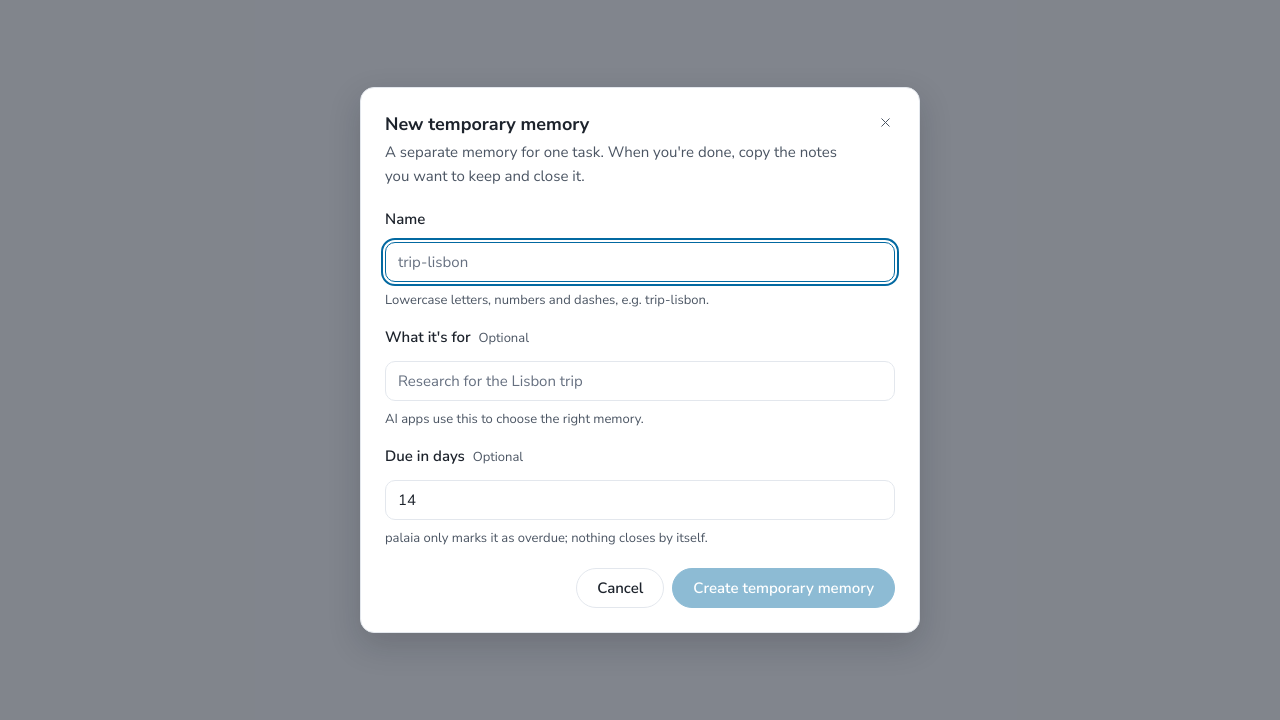
Scenario: NewTemporaryMemory (issue 168) › shows the hub's reason when the name is refused
The width and height of the screenshot is (1280, 720).
Type "trip" into the field labelled "Name" at (640, 262), box left=385, top=242, right=895, bottom=282
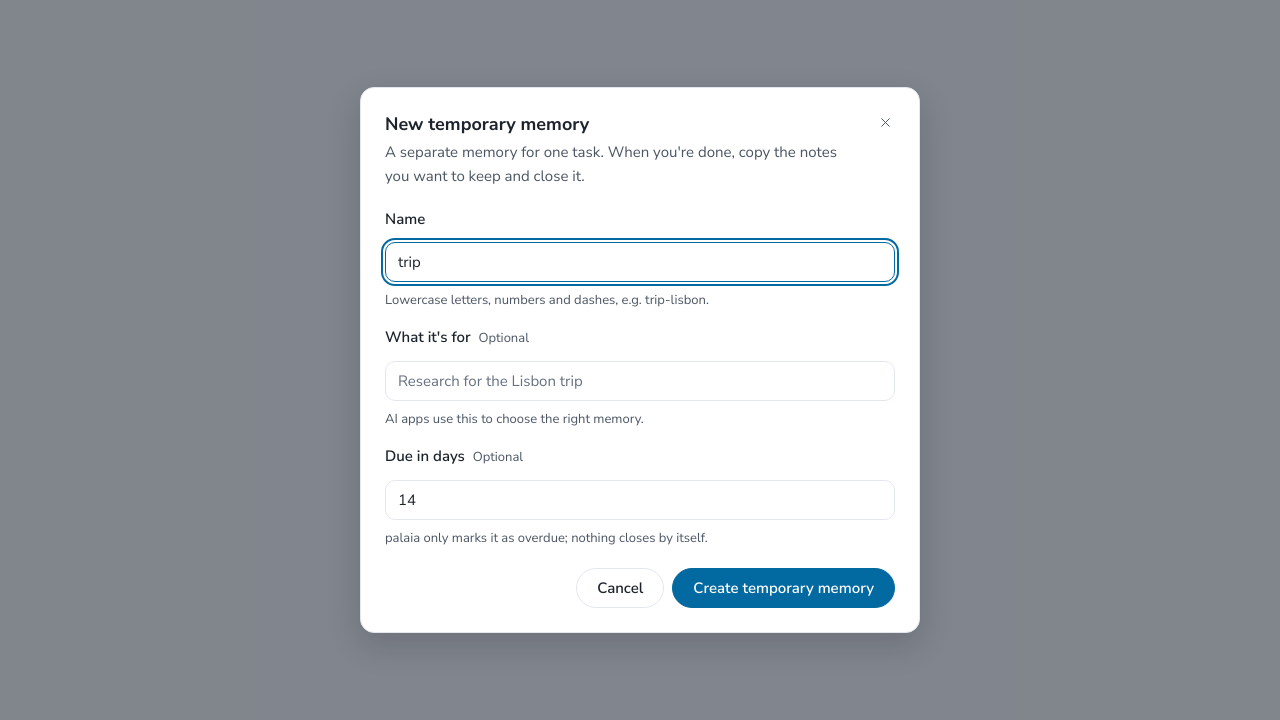
Click the button "Create temporary memory" at (784, 588), box left=672, top=568, right=895, bottom=608
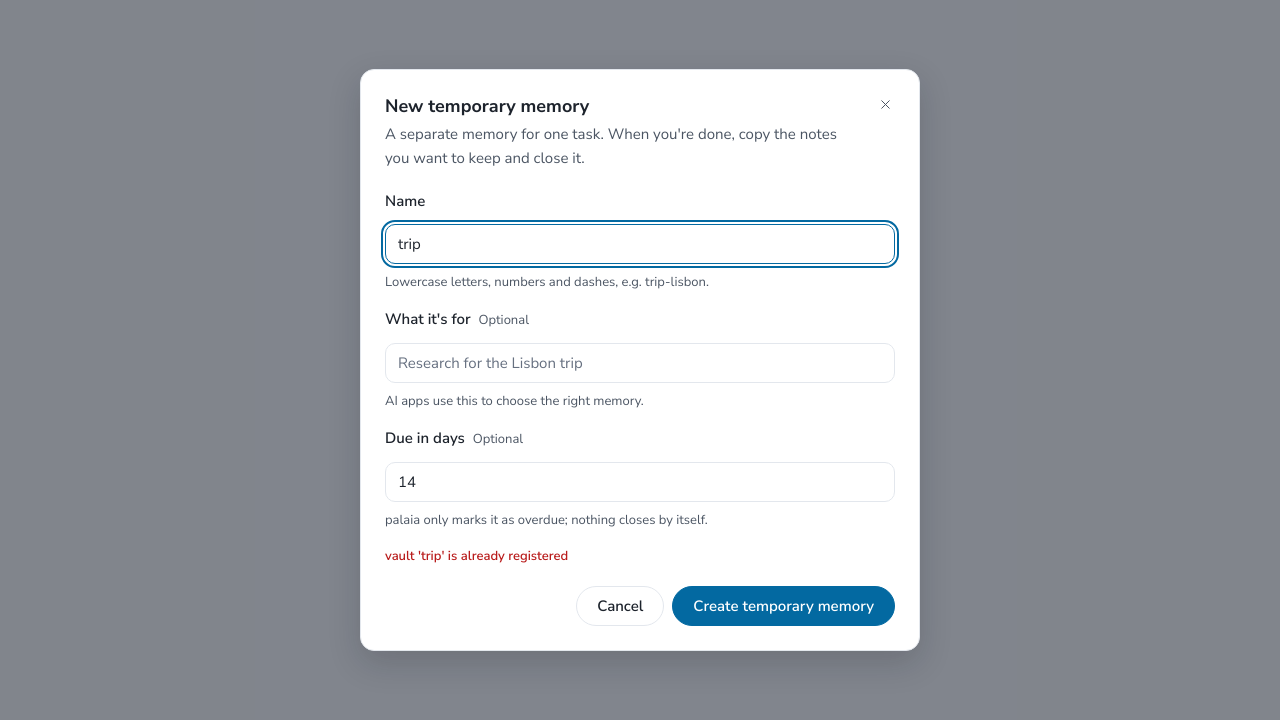
expect the text "vault 'trip' is already registered" is shown: met, box left=385, top=547, right=568, bottom=565
